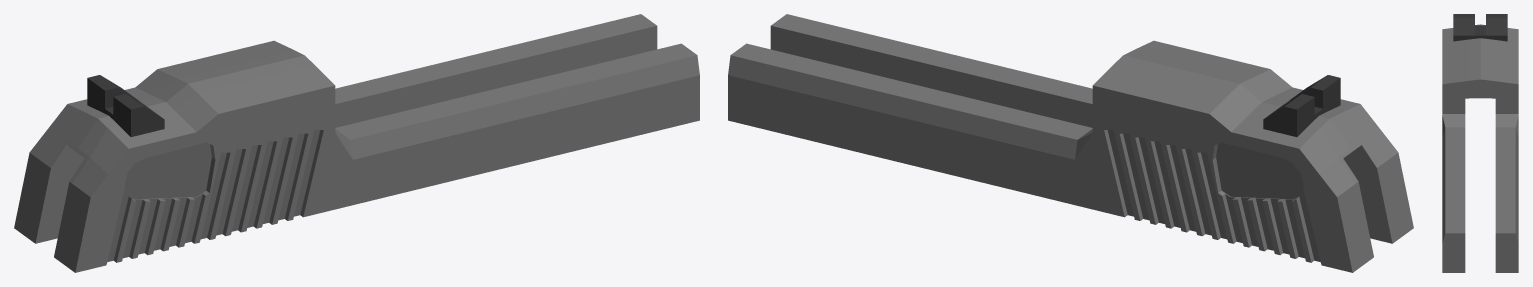
Rendered from SM_Pistols3_01_2.glb.
3 views of the same model, side by side, from view 1: azimuth 30°, elevation 25°; view 2: azimuth 150°, elevation 25°; view 3: azimuth 270°, elevation 25° (orthographic). The views are drawn at different scales.
Visible parts, largest first — view 1: SM_Pistols3_01_2; view 2: SM_Pistols3_01_2; view 3: SM_Pistols3_01_2.
Part boxes in pixels (x1=…): SM_Pistols3_01_2: x1=14, y1=14, x2=699, y2=272; SM_Pistols3_01_2: x1=728, y1=14, x2=1413, y2=272; SM_Pistols3_01_2: x1=1442, y1=14, x2=1518, y2=272.
Size of the model in its own units: 0.2764 by 0.0596 by 0.0469.
1 material, 1 textured.
